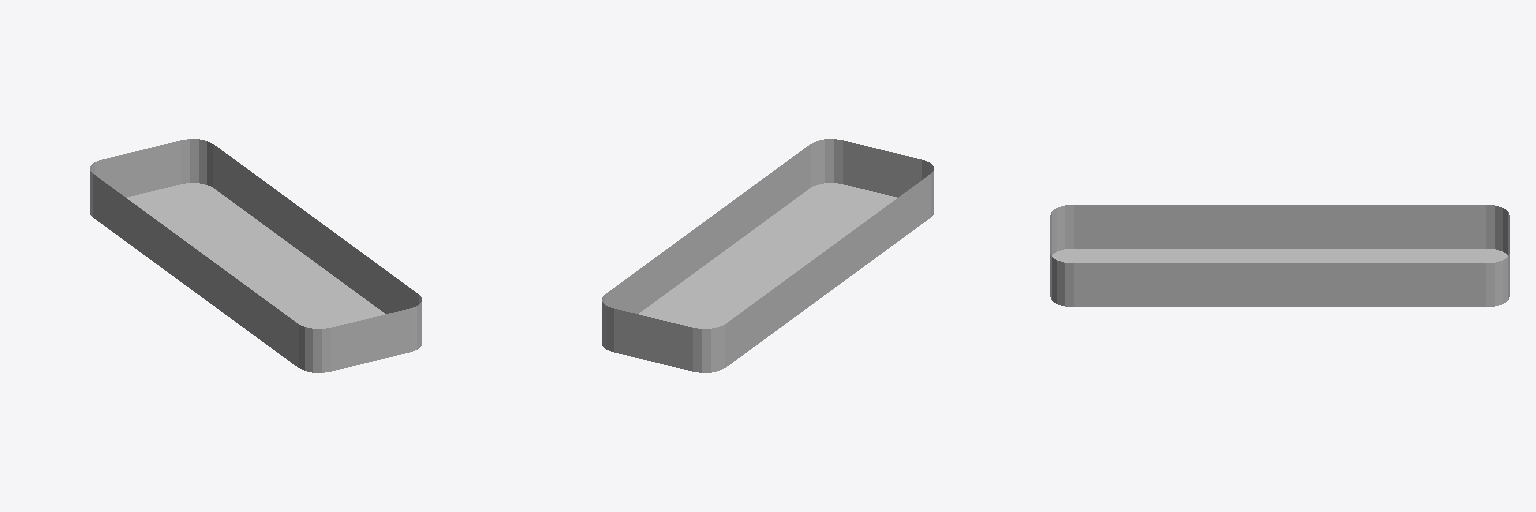
File: STADIUM_COLLIDER_WALLONLY.obj
3 renders of one model, left to right at view 1: azimuth 30°, elevation 25°; view 2: azimuth 150°, elevation 25°; view 3: azimuth 270°, elevation 25°, orthographic.
Visible parts, largest first — view 1: COLLIDER; view 2: COLLIDER; view 3: COLLIDER.
Part boxes in pixels (x1,y1,x2,y2): COLLIDER: (90,139,421,372); COLLIDER: (602,139,933,372); COLLIDER: (1050,205,1509,306).
Size of the model in its own units: 42.93 by 14.93 by 141.